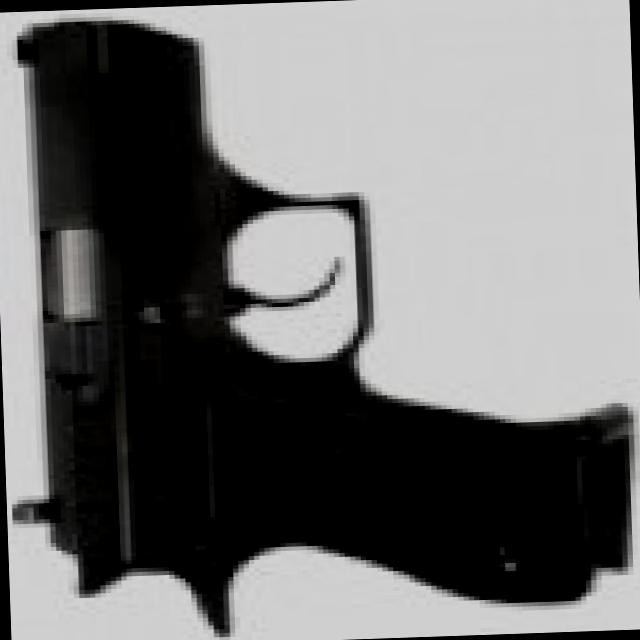handgun: (1, 6, 624, 631)
